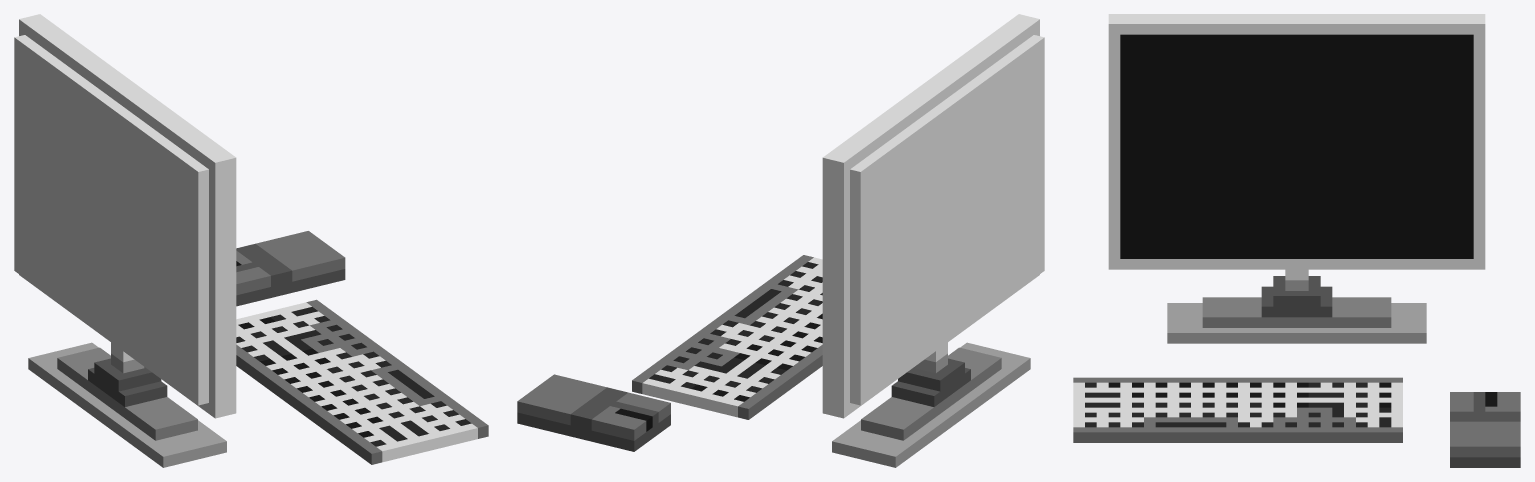
The picture shows the model from 3 angles, left to right: view 1: azimuth 30°, elevation 25°; view 2: azimuth 150°, elevation 25°; view 3: azimuth 270°, elevation 25°; orthographic projection. The views are drawn at different scales.
Size of the model in its own units: 3.1 by 2.9 by 3.8.
Materials: 1 (1 with a texture image).
